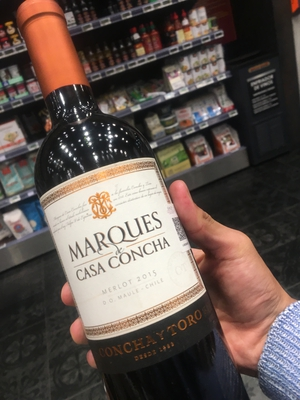marques de casa concha merlot: (20, 20, 233, 394)
